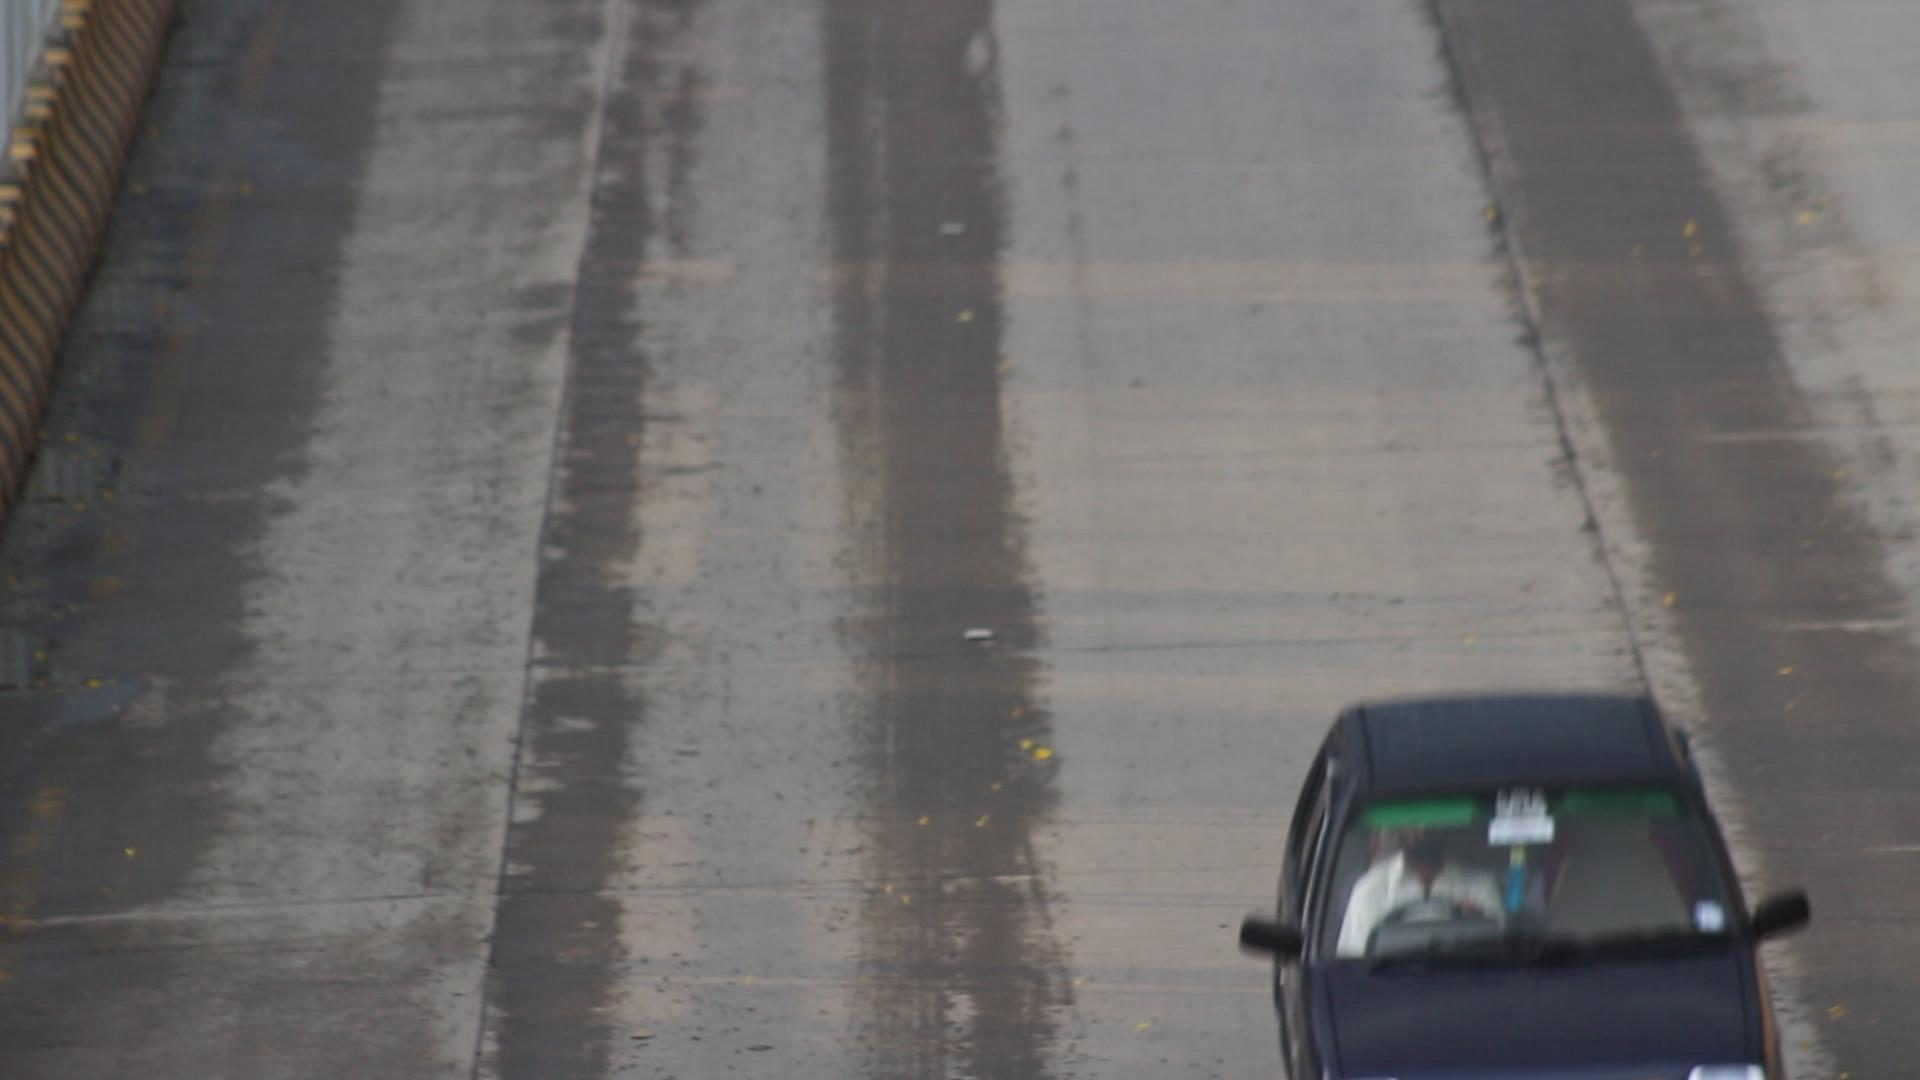windshield: (1311, 764, 1760, 971)
